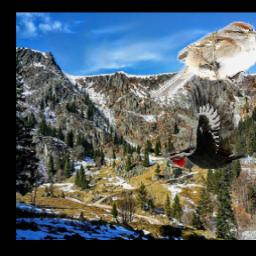Sparrow: (150, 21, 256, 98)
Woodpecker: (157, 82, 248, 170)
